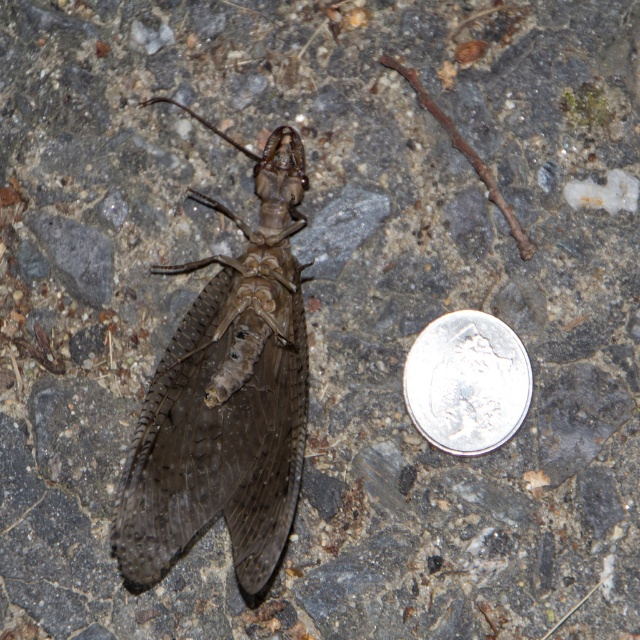Moths and butterflies: (104, 94, 312, 618)
